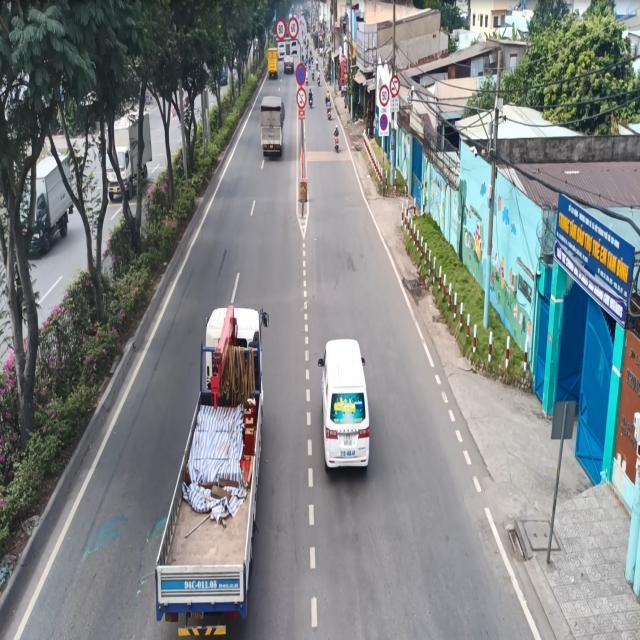car: (318, 337, 370, 470)
truck: (168, 305, 263, 620), (18, 149, 75, 258), (104, 113, 155, 201), (259, 95, 284, 157)
